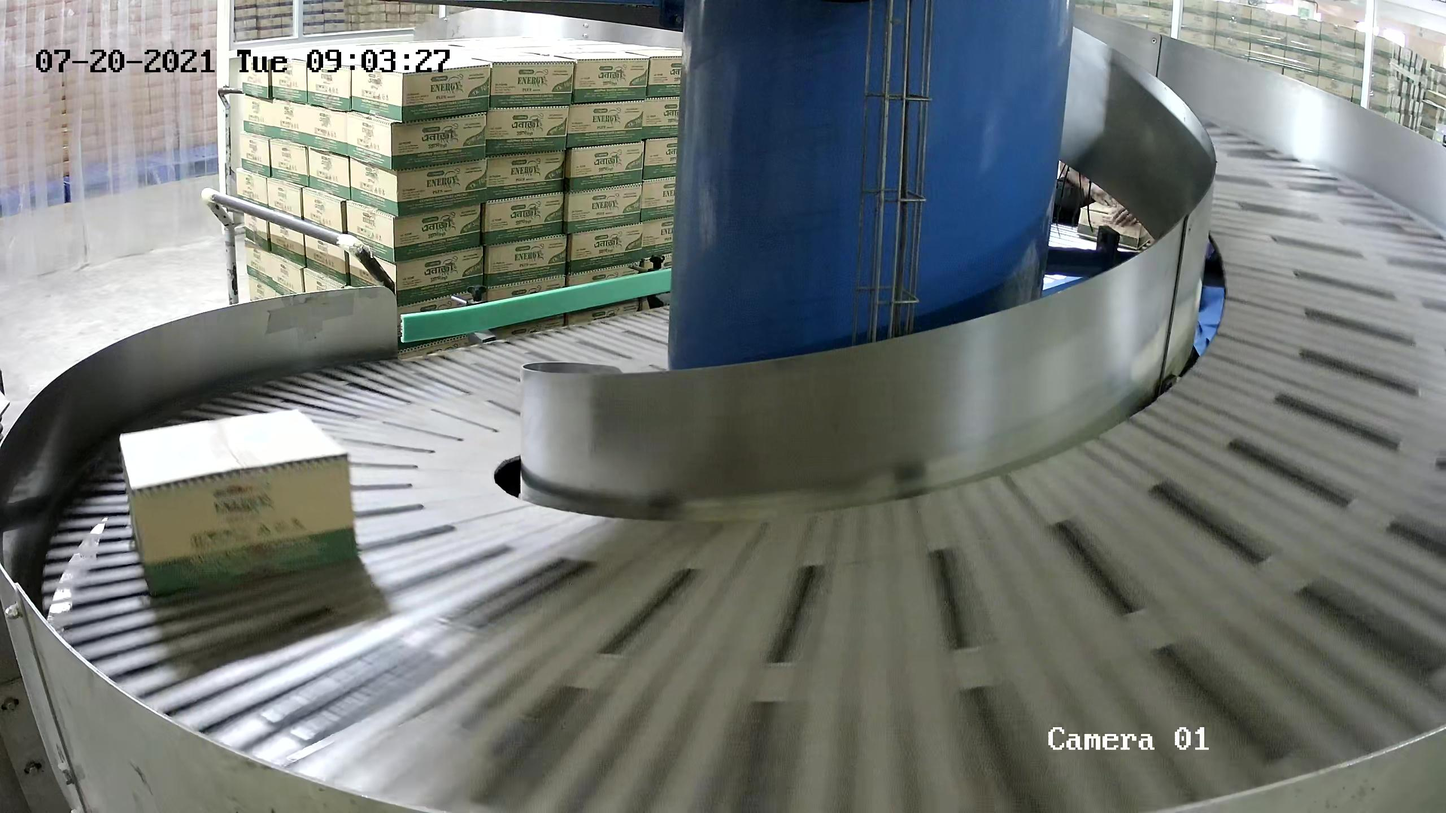Box: (118, 406, 360, 604)
